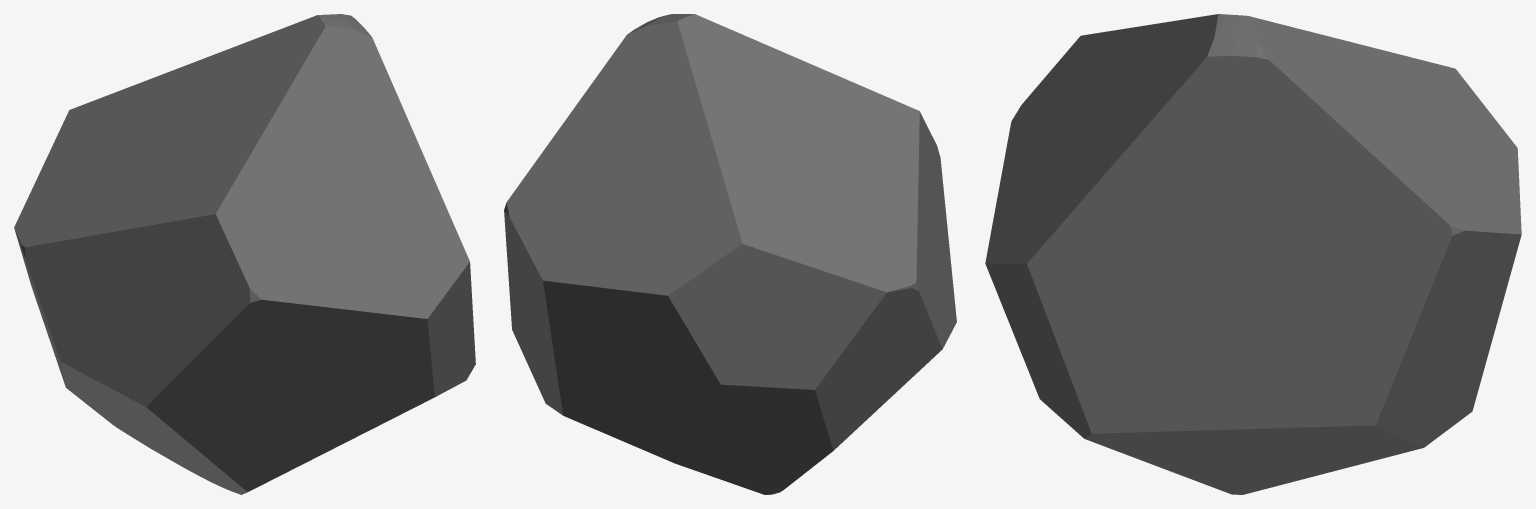
Rendered from Rock1.fbx.
3 views of the same model, side by side, from view 1: azimuth 30°, elevation 25°; view 2: azimuth 150°, elevation 25°; view 3: azimuth 270°, elevation 25° (orthographic). The views are drawn at different scales.
Visible parts, largest first — view 1: Big Rock 1; view 2: Big Rock 1; view 3: Big Rock 1.
Part boxes in pixels (left/top/right/bottom): Big Rock 1: left=14, top=14, right=475, bottom=494; Big Rock 1: left=504, top=14, right=956, bottom=494; Big Rock 1: left=985, top=14, right=1521, bottom=494.
Size of the model in its own units: 241 by 228 by 255.
